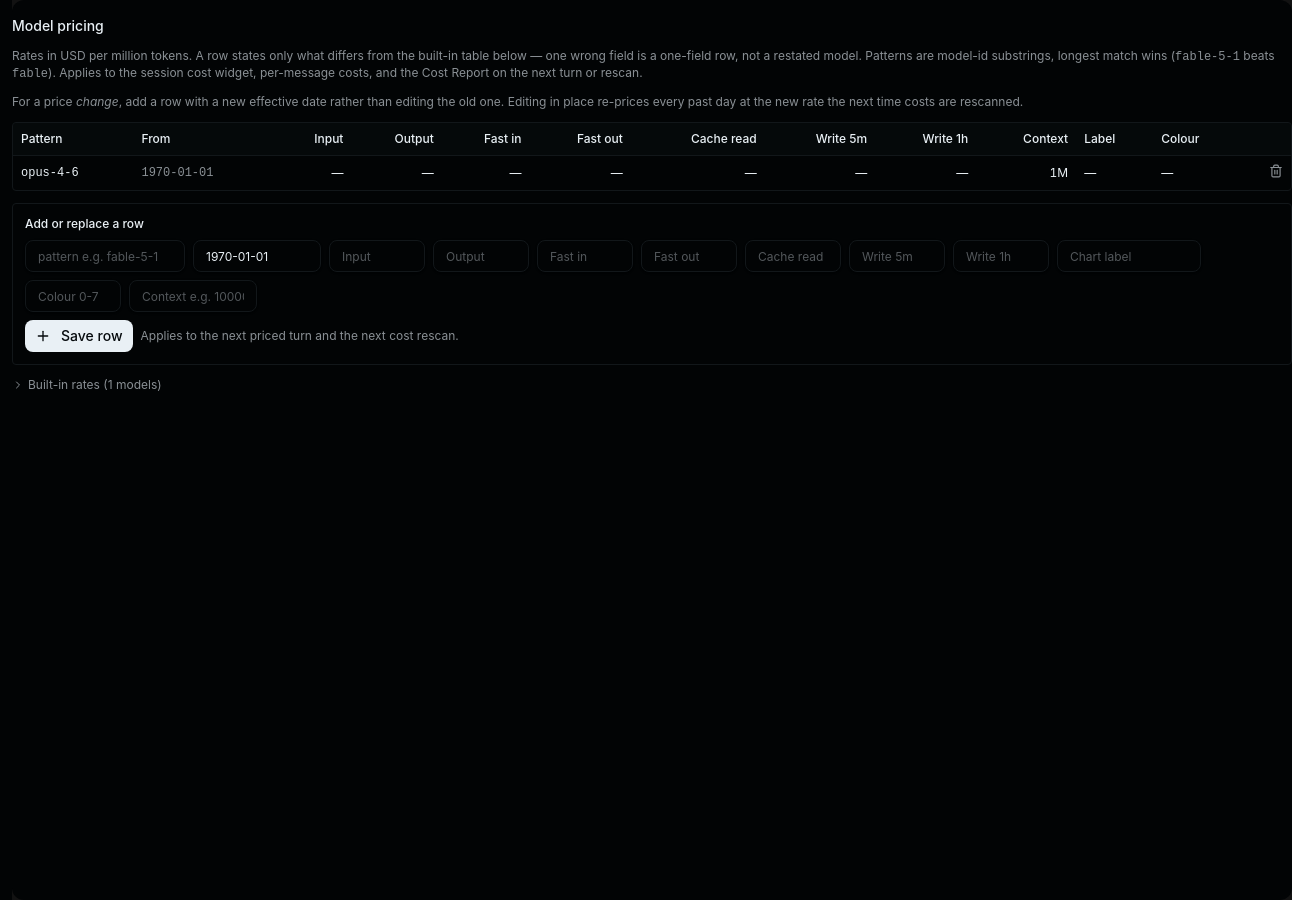
Test: ModelPricingEditor save feedback › reports a saved row in the save indicator
Check: the text "opus-4-6" is shown, box [13,156,133,190]
Step 1. Type "opus-9" into the field named "Model pattern" → (105, 256), box [25,240,185,272]
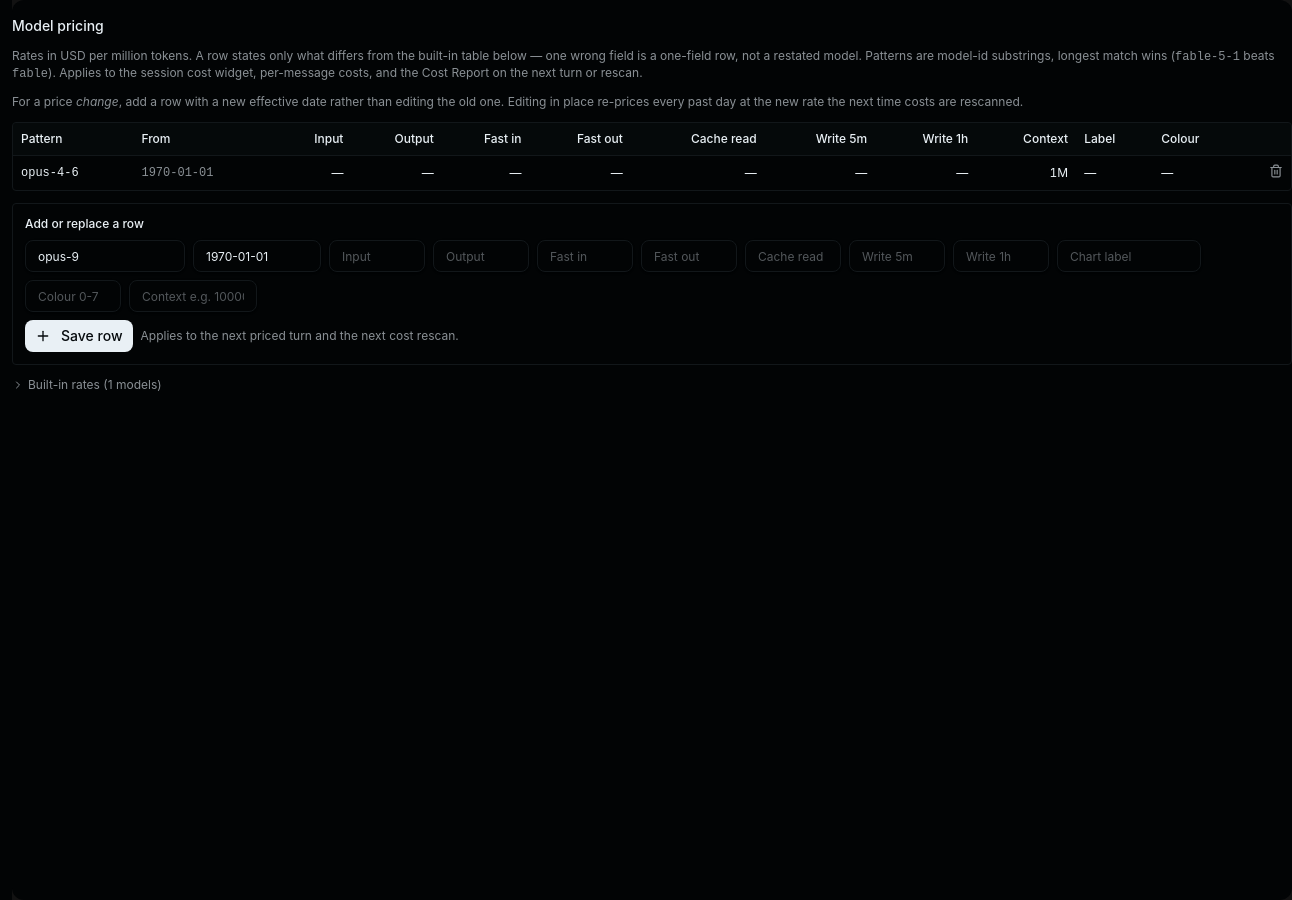
Step 2. Click the button "Save row" → (79, 336), box [25,320,132,352]
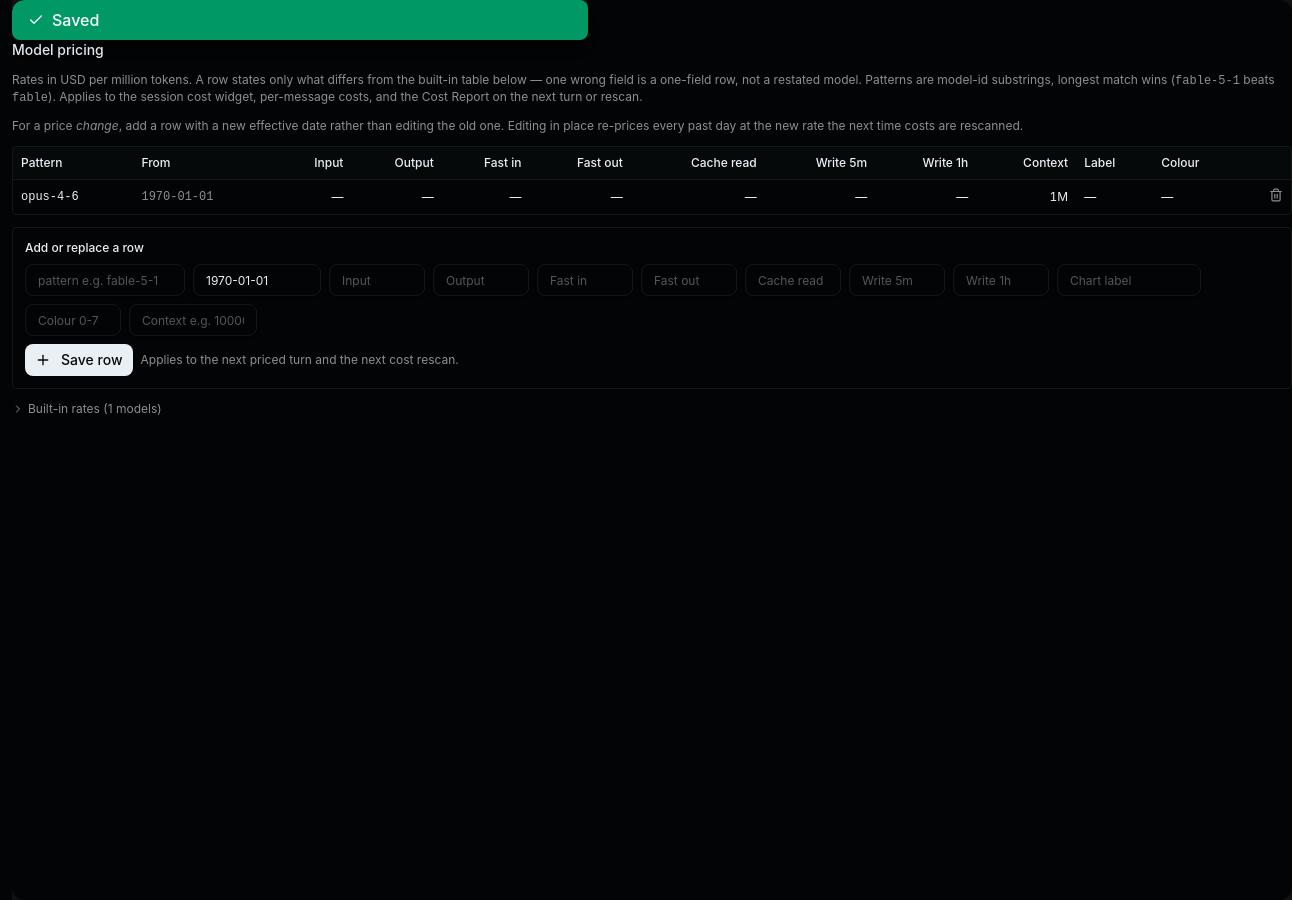
Check: the message reads "Saved", box [52,10,99,30]
